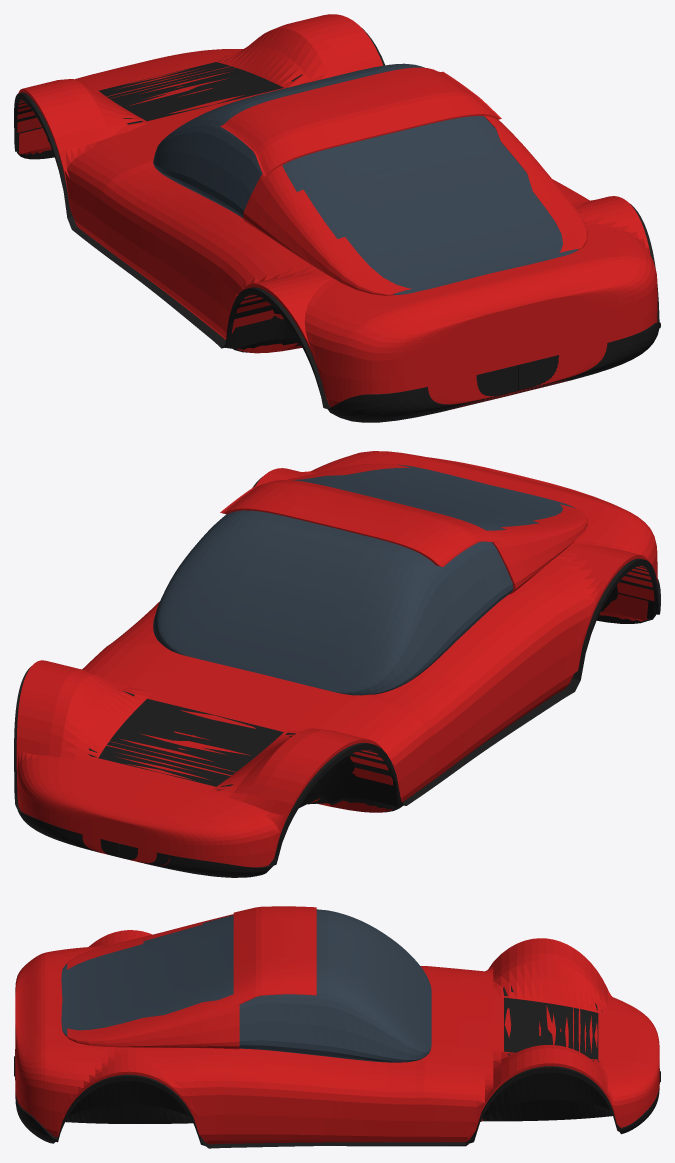
The model's file is VelocityGT.obj.
3 renders of one model, top to bottom at view 1: azimuth 30°, elevation 25°; view 2: azimuth 150°, elevation 25°; view 3: azimuth 270°, elevation 25°, orthographic. The views are drawn at different scales.
Visible parts, largest first — view 1: Karosserie, Glas, Dach, Verkleidung; view 2: Karosserie, Glas, Verkleidung, Dach; view 3: Karosserie, Glas, Verkleidung, Dach.
Boxes of the visible parts, bbox=[...] form: Karosserie: bbox=[17, 14, 657, 410]; Glas: bbox=[153, 63, 578, 295]; Dach: bbox=[220, 67, 587, 295]; Verkleidung: bbox=[14, 28, 660, 422]; Karosserie: bbox=[16, 451, 657, 867]; Glas: bbox=[153, 464, 575, 695]; Verkleidung: bbox=[14, 476, 660, 877]; Dach: bbox=[220, 463, 587, 594]; Karosserie: bbox=[15, 930, 659, 1144]; Glas: bbox=[61, 909, 431, 1062]; Verkleidung: bbox=[14, 986, 660, 1148]; Dach: bbox=[67, 906, 316, 1049].
Bounding box in the file's own units: 8.24 × 4.11 × 15.56.
